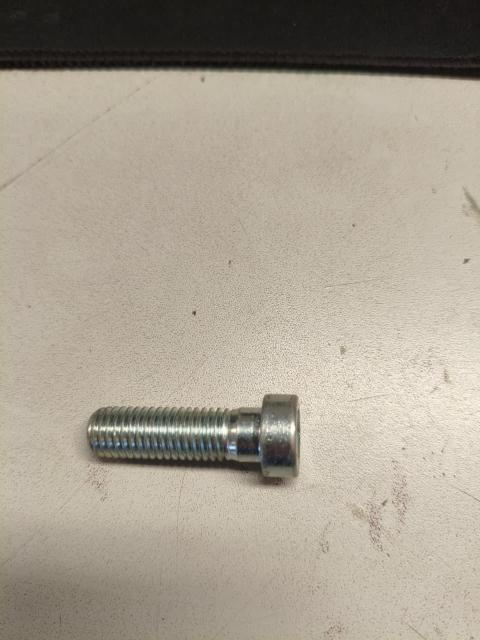Metal: (78, 375, 318, 488)
